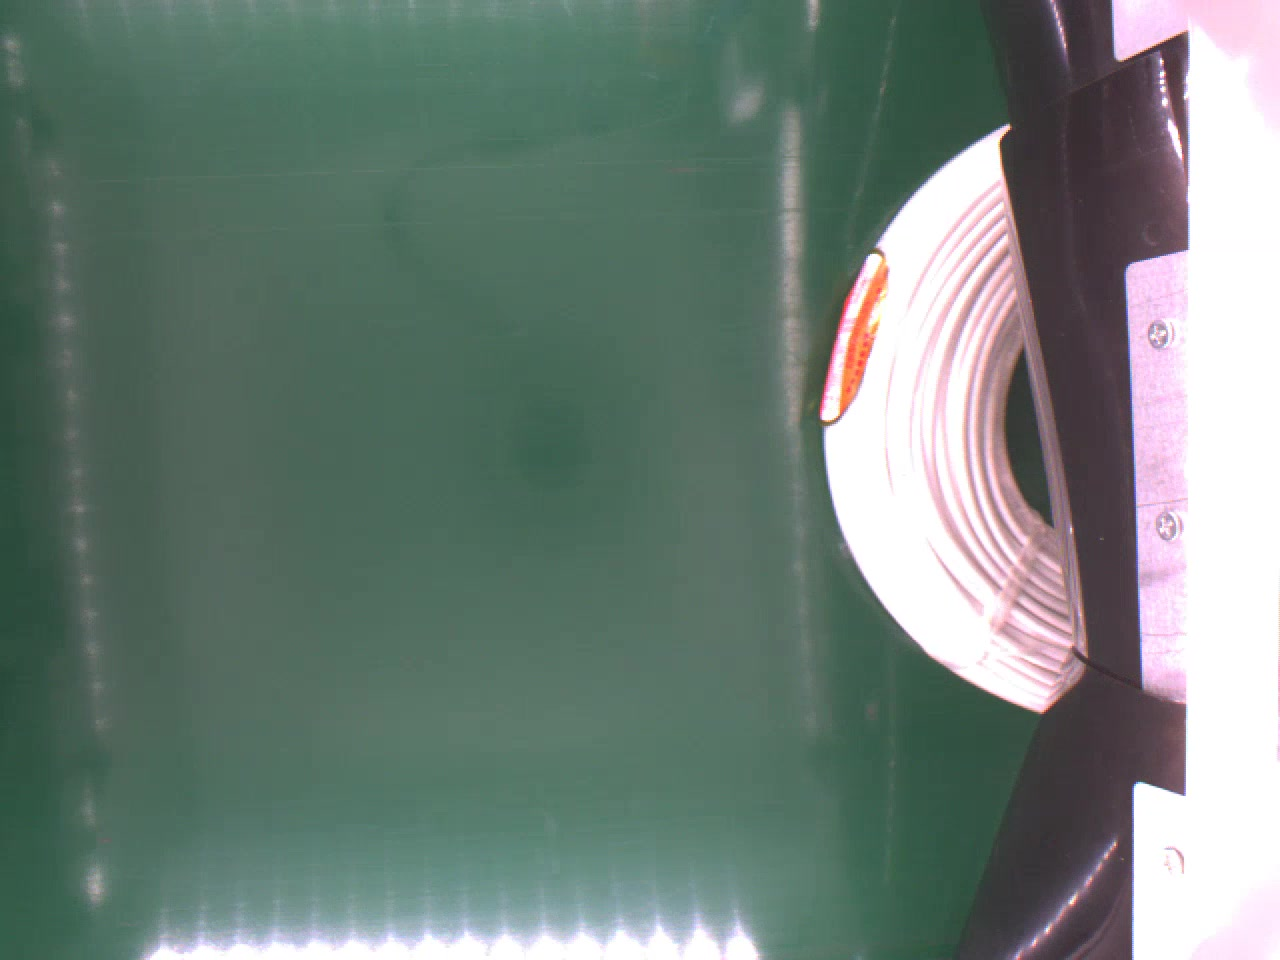white: (819, 114, 1085, 715)
